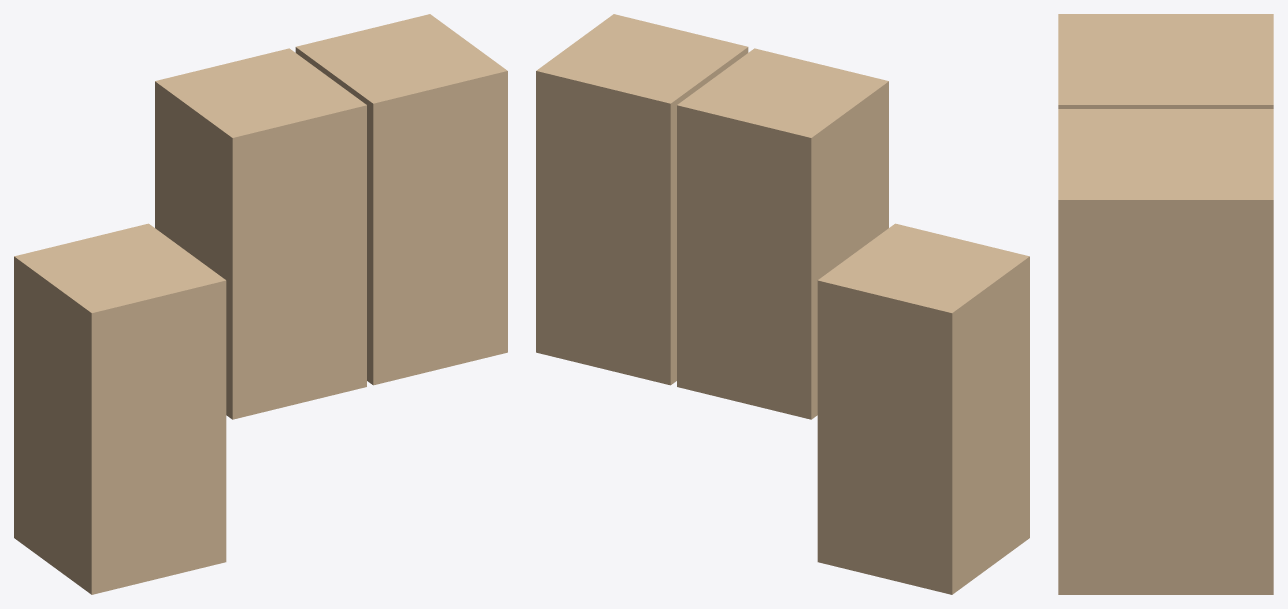
The model's file is ExtraStorageProp.glb.
3 renders of one model, left to right at view 1: azimuth 30°, elevation 25°; view 2: azimuth 150°, elevation 25°; view 3: azimuth 270°, elevation 25°, orthographic. The views are drawn at different scales.
Visible parts, largest first — view 1: ExtraStorageProp_0; view 2: ExtraStorageProp_0; view 3: ExtraStorageProp_0.
Part boxes in pixels (<box>): ExtraStorageProp_0: <box>14,14,507,594</box>; ExtraStorageProp_0: <box>536,14,1029,594</box>; ExtraStorageProp_0: <box>1058,14,1273,594</box>.
Bounding box in the file's own units: 3.4 × 3.3 × 1.1.
